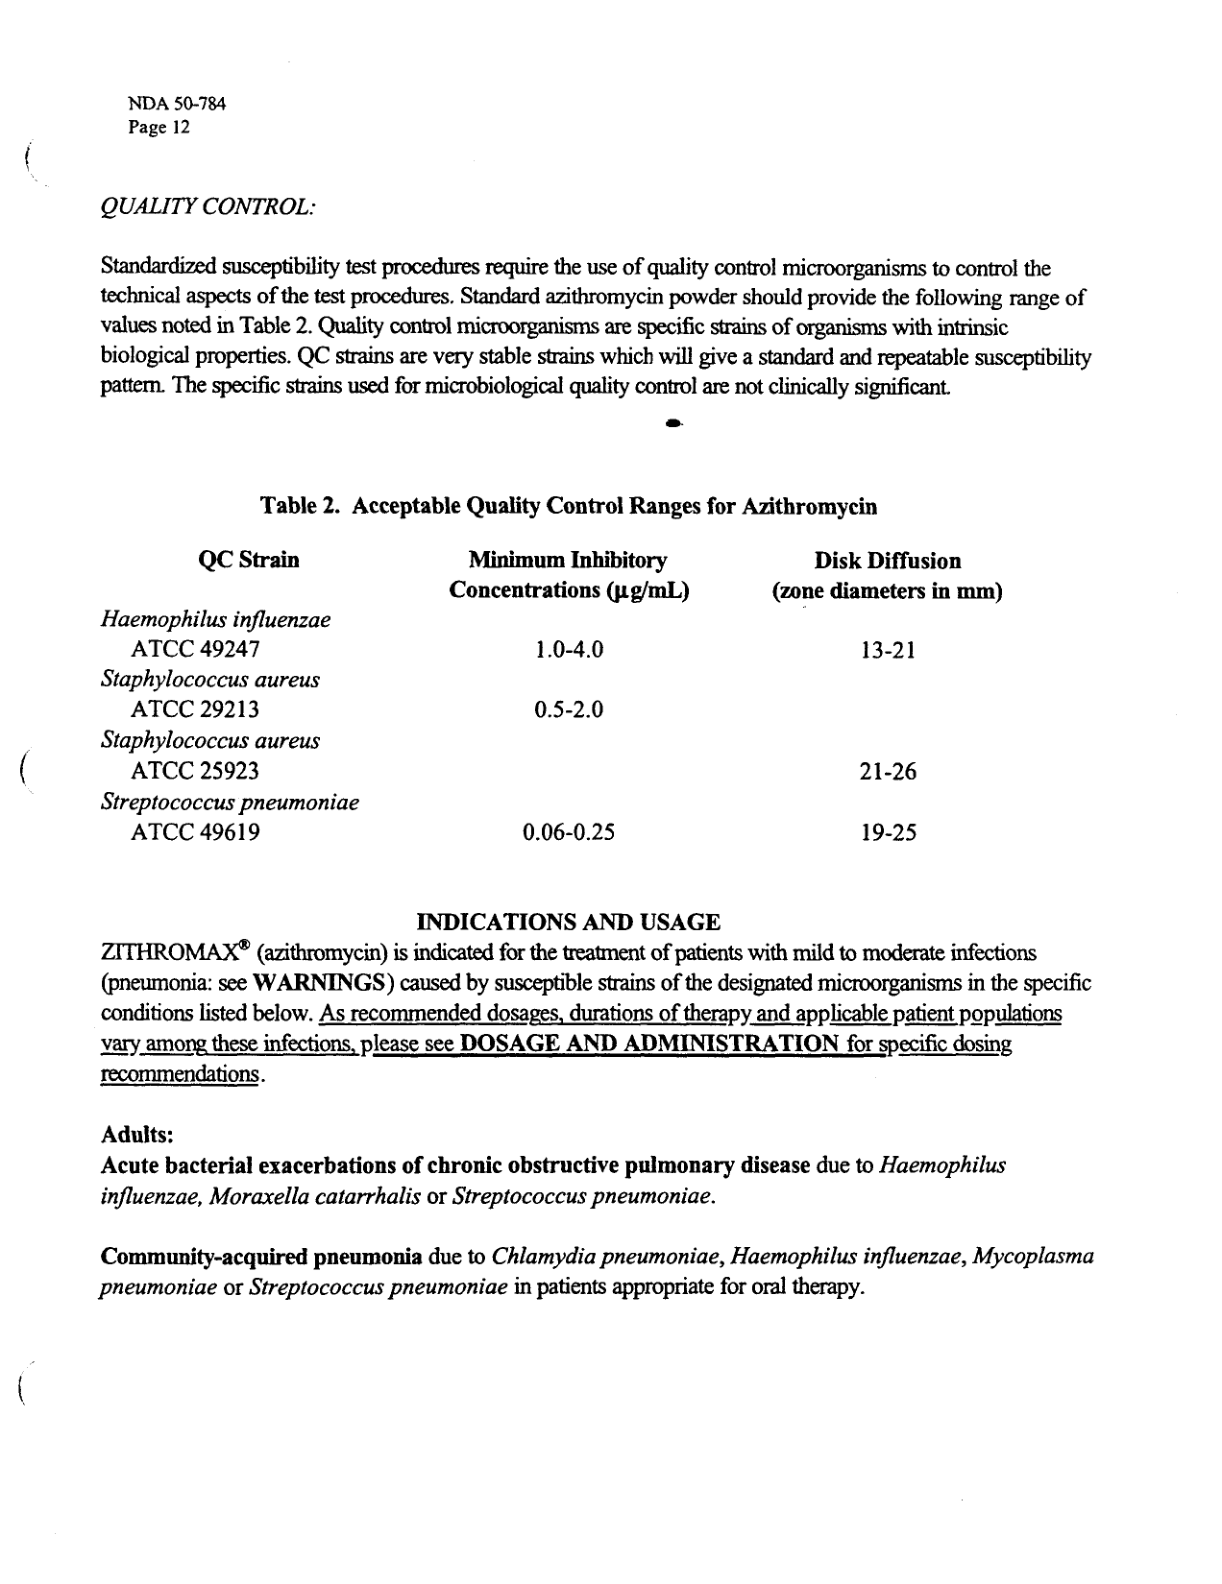nolines: (96, 546, 1004, 845)
